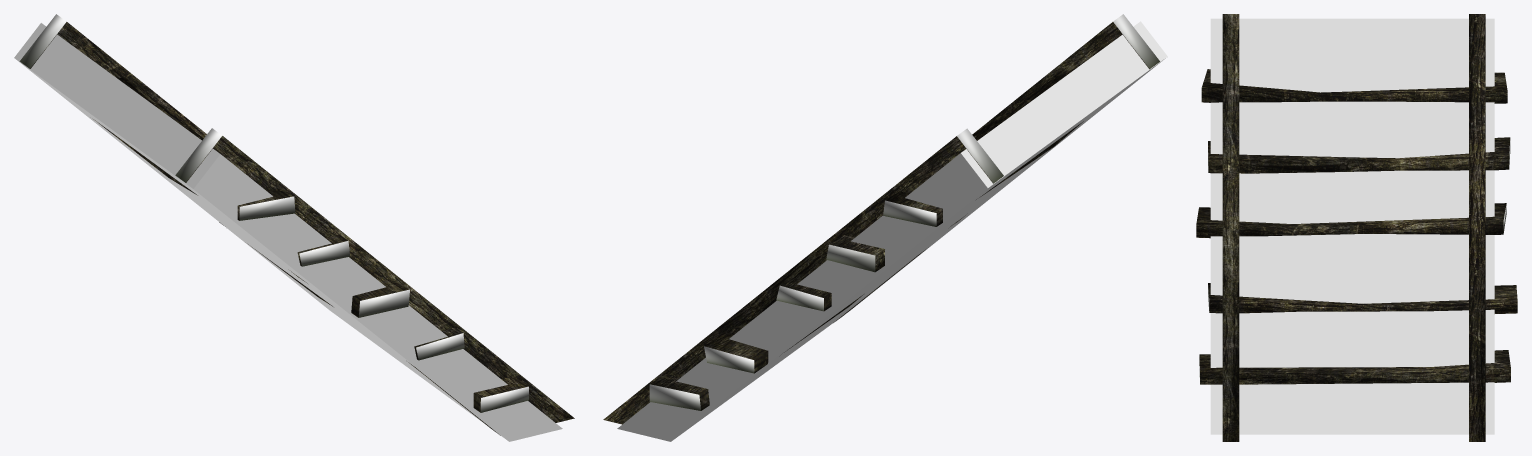
Rendered from ex_de_docks_steps_01.dae.
3 renders of one model, left to right at view 1: azimuth 30°, elevation 25°; view 2: azimuth 150°, elevation 25°; view 3: azimuth 270°, elevation 25°, orthographic. The views are drawn at different scales.
Parts seen in each view (by area): view 1: nifid_11-matrix, nifid_1-matrix, nifid_6-matrix; view 2: nifid_11-matrix, nifid_1-matrix, nifid_6-matrix; view 3: nifid_11-matrix, nifid_1-matrix.
Boxes of the visible parts, x1=… form: nifid_11-matrix: x1=14, y1=23, x2=562, y2=441; nifid_1-matrix: x1=30, y1=22, x2=574, y2=435; nifid_6-matrix: x1=19, y1=14, x2=528, y2=412; nifid_11-matrix: x1=617, y1=21, x2=1167, y2=441; nifid_1-matrix: x1=603, y1=22, x2=1149, y2=424; nifid_6-matrix: x1=649, y1=14, x2=1159, y2=410; nifid_11-matrix: x1=1210, y1=18, x2=1494, y2=434; nifid_1-matrix: x1=1196, y1=14, x2=1517, y2=441.
Size of the model in its own units: 172 by 156 by 156.
2 materials, 1 textured.
